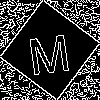M: (25, 25, 72, 76)
